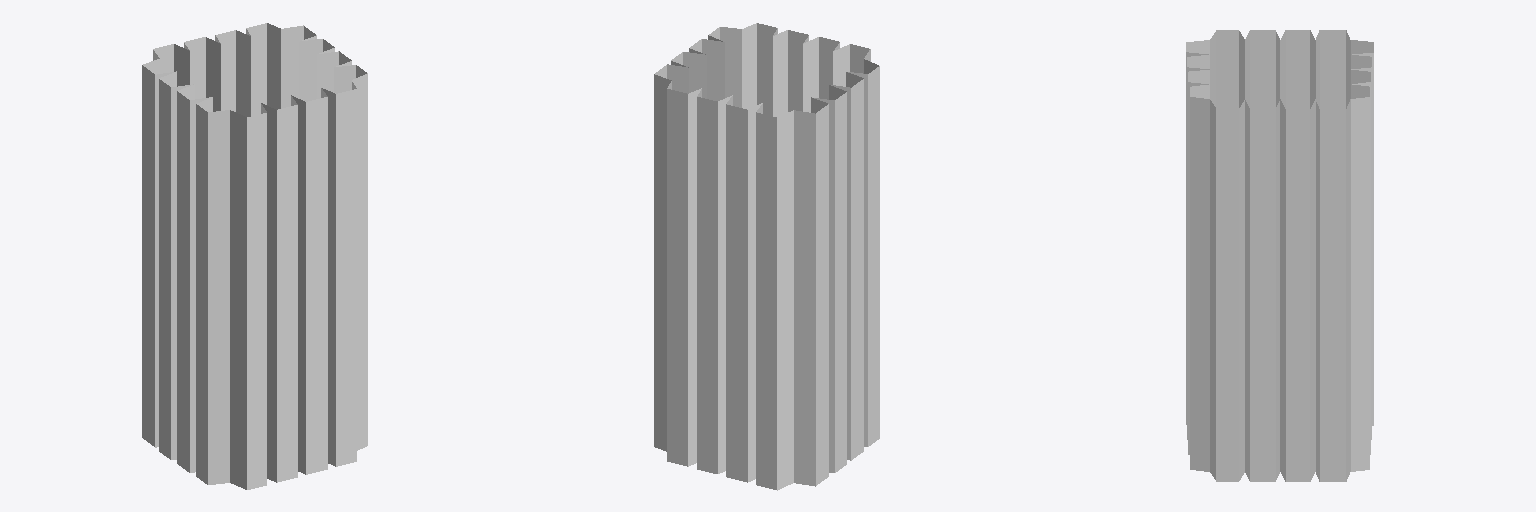
Rendered from Skyscraper_Base_2.obj.
3 views of the same model, side by side, from view 1: azimuth 30°, elevation 25°; view 2: azimuth 150°, elevation 25°; view 3: azimuth 270°, elevation 25° (orthographic).
Parts seen in each view (by area): view 1: pCube35_pCube35; view 2: pCube35_pCube35; view 3: pCube35_pCube35.
Part boxes in pixels (bbox=[...]): pCube35_pCube35: bbox=[142, 23, 367, 489]; pCube35_pCube35: bbox=[654, 23, 879, 490]; pCube35_pCube35: bbox=[1186, 30, 1373, 481].
Bounding box in the file's own units: 1.35 × 2.93 × 1.33.